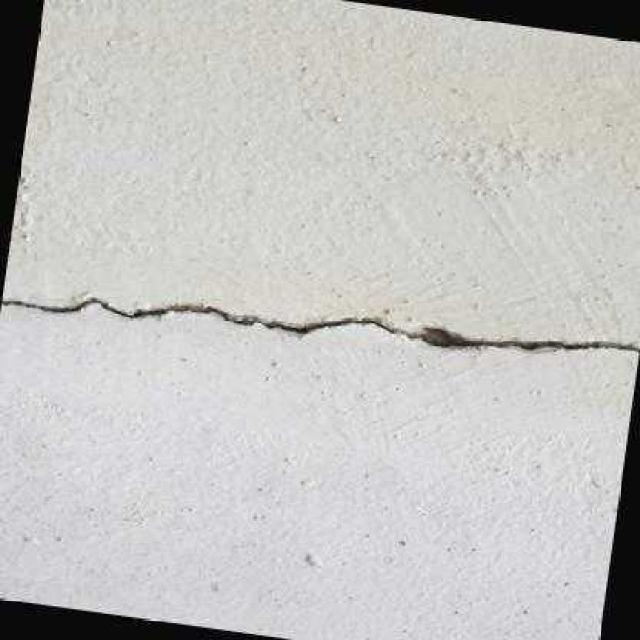D00: (0, 296, 639, 352)
